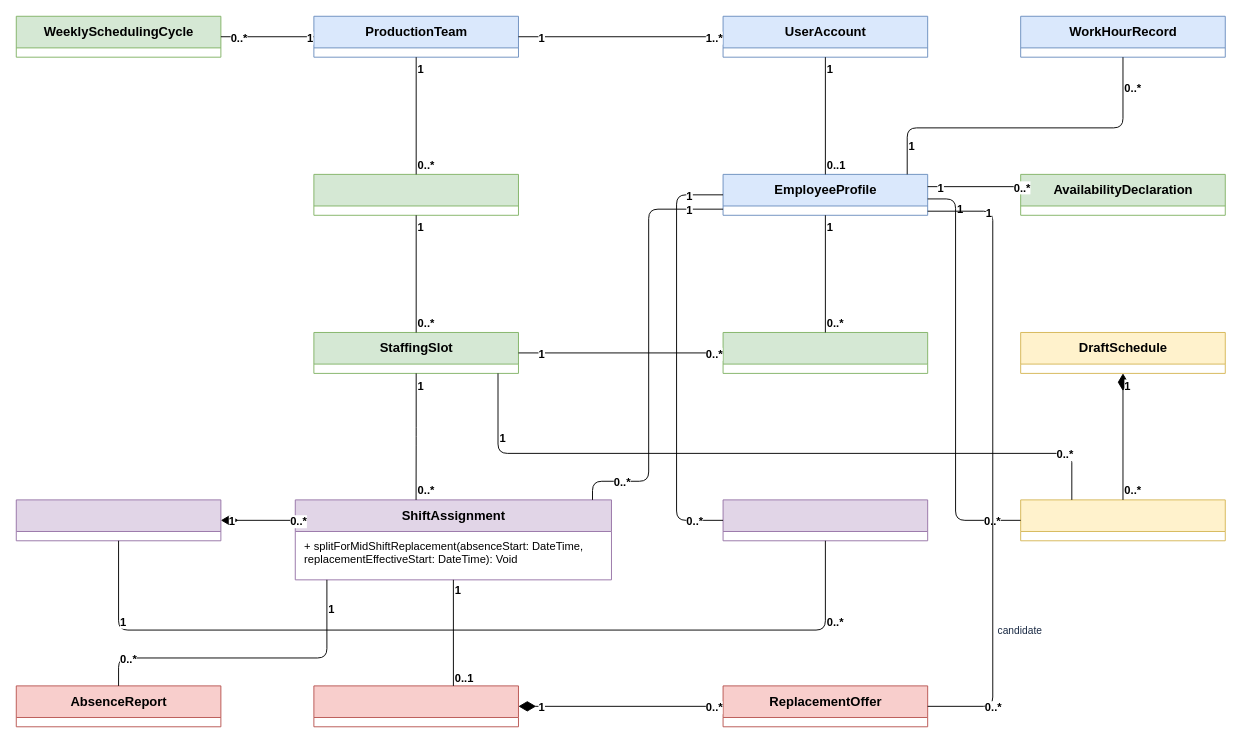
Image size: 1242x743. Some labels were removed from this diagram. The centre of each missing label's shape, as x and y in pixels:
"CoverageRequest" goes at point 415,706.
"DraftAssignment" goes at point 1122,520.
"OfficialScheduleVersion" goes at point 118,520.
"OvertimeSignup" goes at point 825,352.
"ScheduleAcknowledgement" goes at point 825,520.
"StaffingRequirement" goes at point 415,194.
